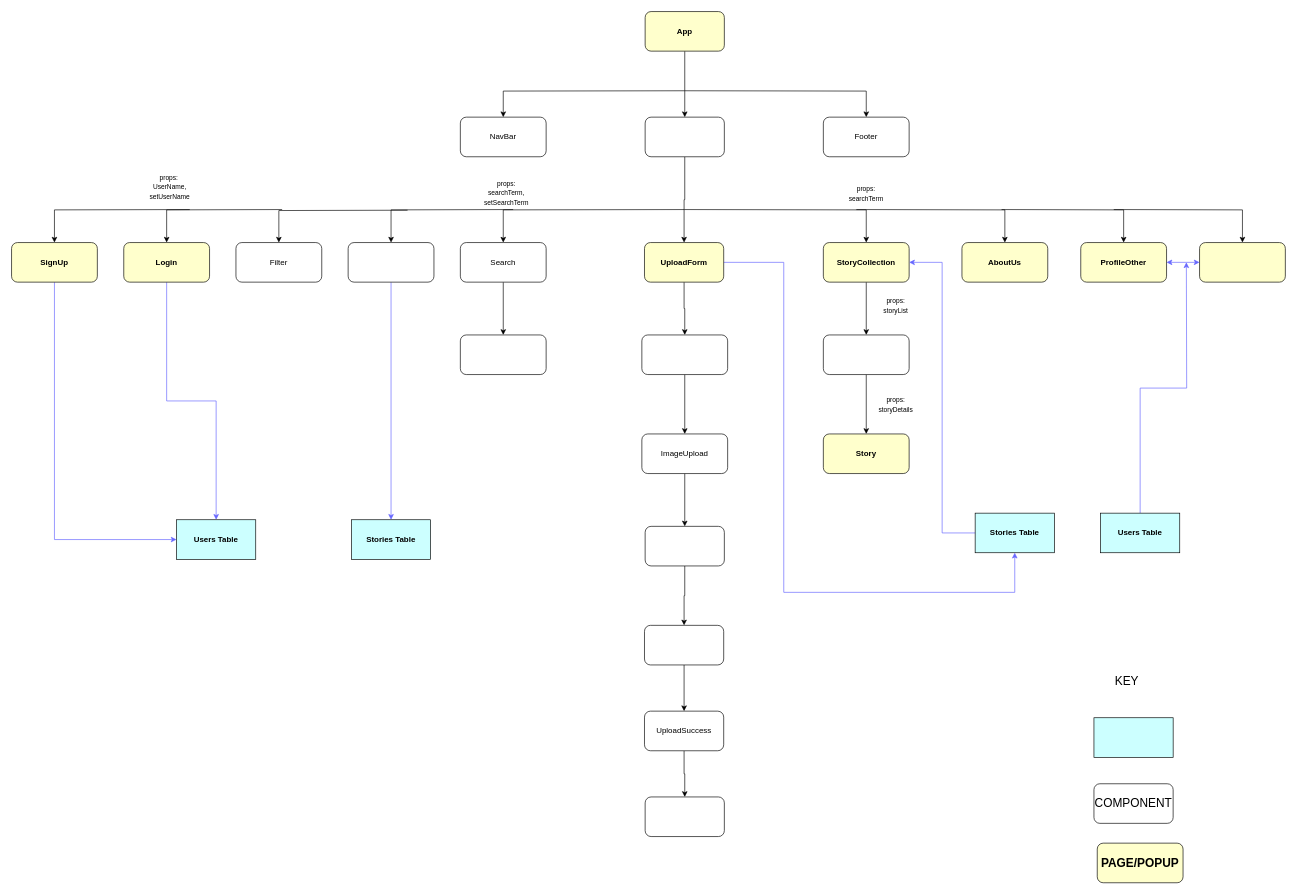
Image size: 1297x894. Some labels were removed from this diagram. The box of each missing label's shape, as (x1, y1, x2, y2) in pixels:
AudioUpload: (644, 625, 724, 665)
Content: (644, 116, 724, 157)
DATABASE: (1093, 717, 1173, 757)
Error: (644, 796, 724, 837)
ProfileOwn: (1199, 242, 1285, 282)
RandomStory: (347, 242, 434, 282)
StoryCard: (823, 334, 909, 375)
TextUpload: (644, 526, 724, 566)
UserInput: (460, 334, 546, 375)
VideoUpload: (641, 334, 728, 375)
